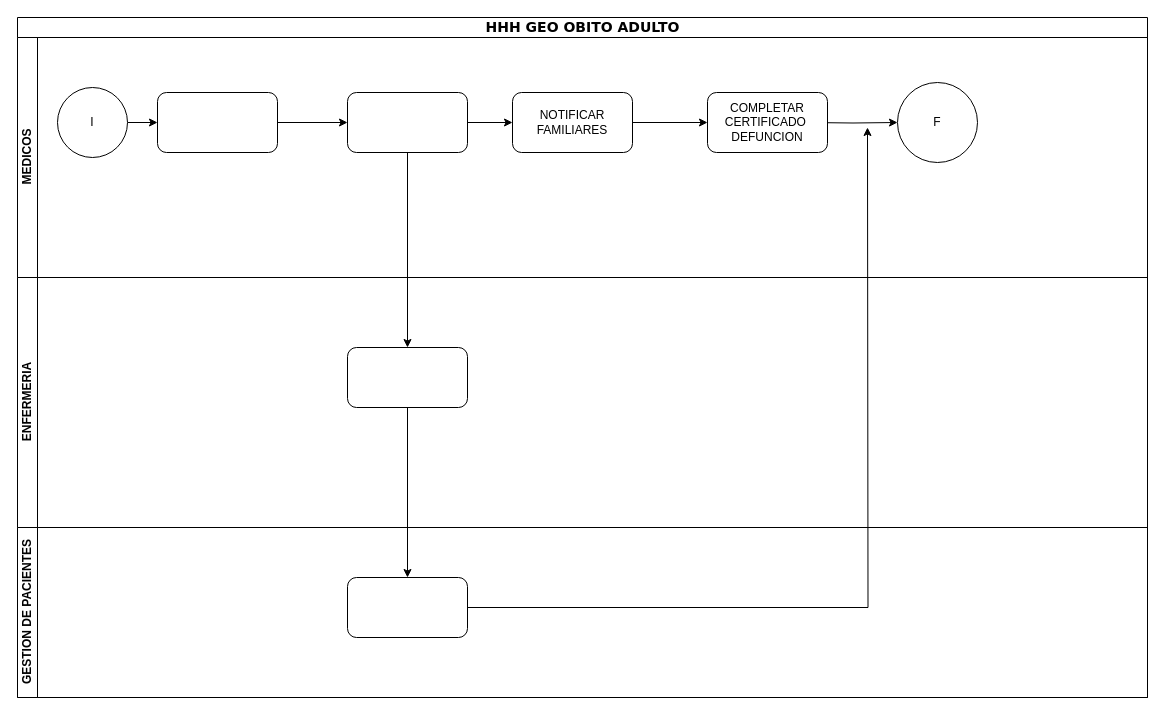
Image size: 1165x715. Some labels were removed from this diagram. The centre of each missing label's shape, as x and y in pixels:
"DECLARAR DEFUNCION" goes at (407,122).
"HHH-GEO-CONSULTA-COMPLEJA" goes at (217,122).
"NOTIFICAR CAMILLERO PARA TRASLADAR OBITO" goes at (407,607).
"PREPARAR EL ÓBITO" goes at (407,377).
